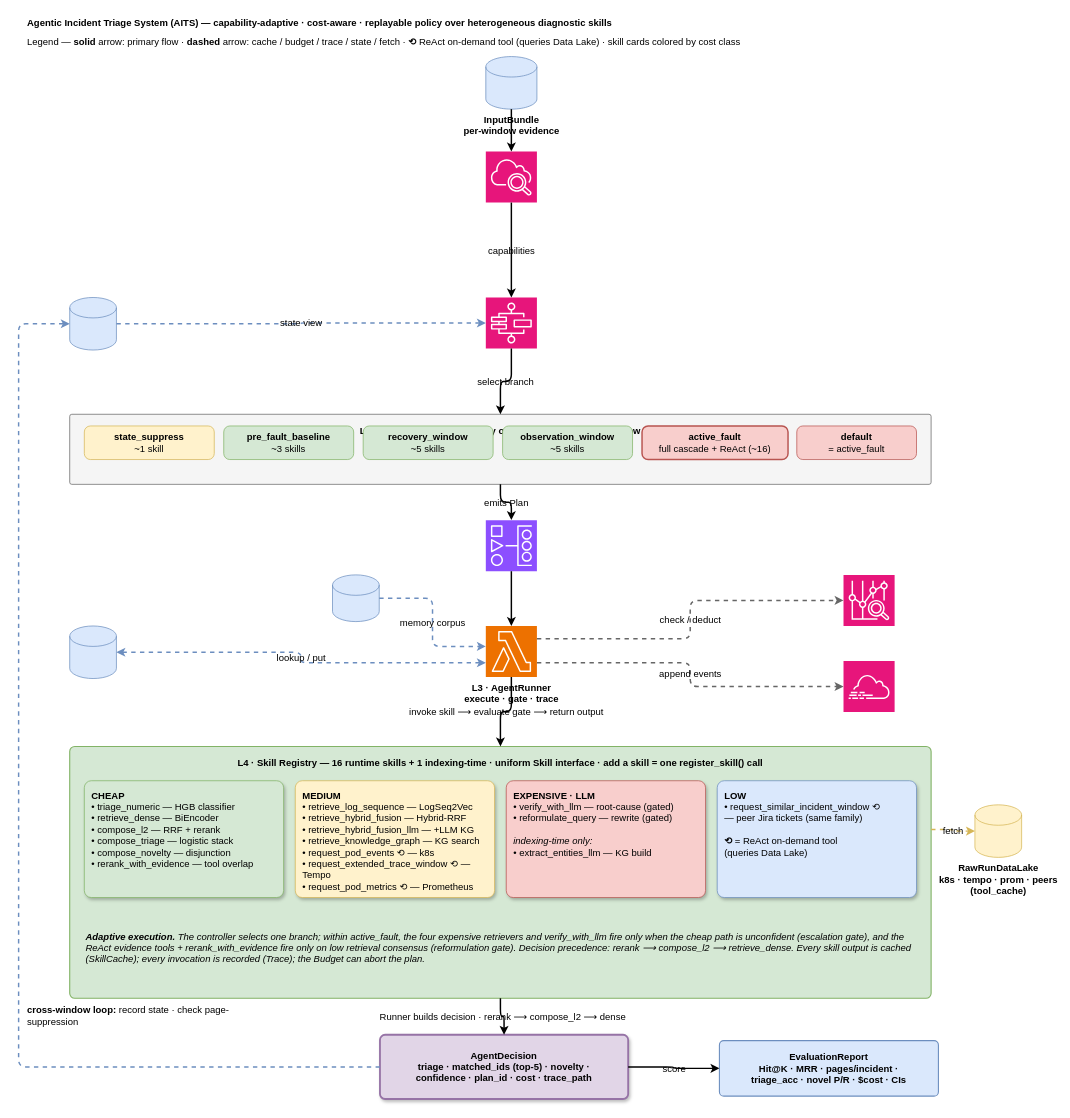
Image size: 1070x1118. Some labels were removed from this diagram. The shapes that lost their labels are listed below. From the top down, each one's centre as x and y in pixels, then its label:
At [511,177]: "L0 · CapabilitiesObserver flags + richness".
At [92,323]: "L5 · StateLayer ring buffer (n=12) + page-suppression".
At [511,323]: "L1 · Controller CapabilityAwareRule".
At [511,545]: "L2 · Plan invocations + gates + budget".
At [355,598]: "MemoryView Jira corpus (per case)".
At [869,600]: "Budget tokens · wall · USD · calls".
At [92,652]: "SkillCache content-addressed".
At [869,686]: "Trace replayable JSON log".
